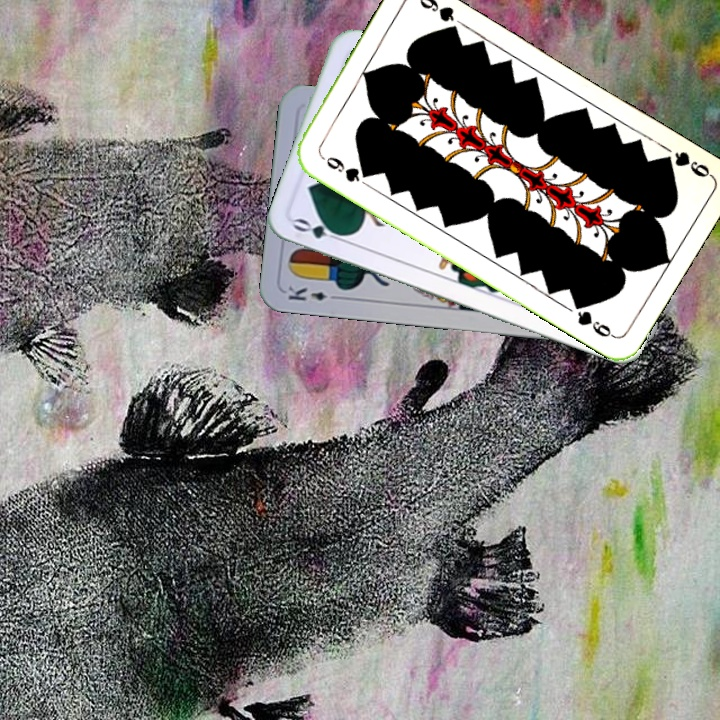EK: (284, 282, 343, 304)
G9: (316, 150, 372, 185), (655, 147, 714, 180)
GO: (289, 214, 349, 245)
